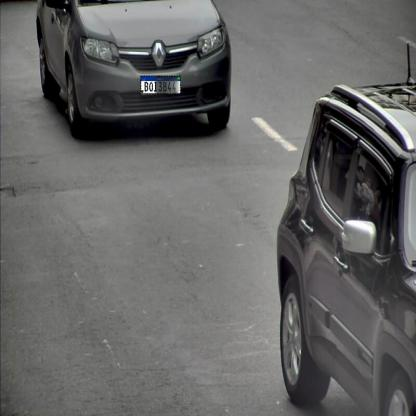PlacaM: (140, 76, 181, 94)
